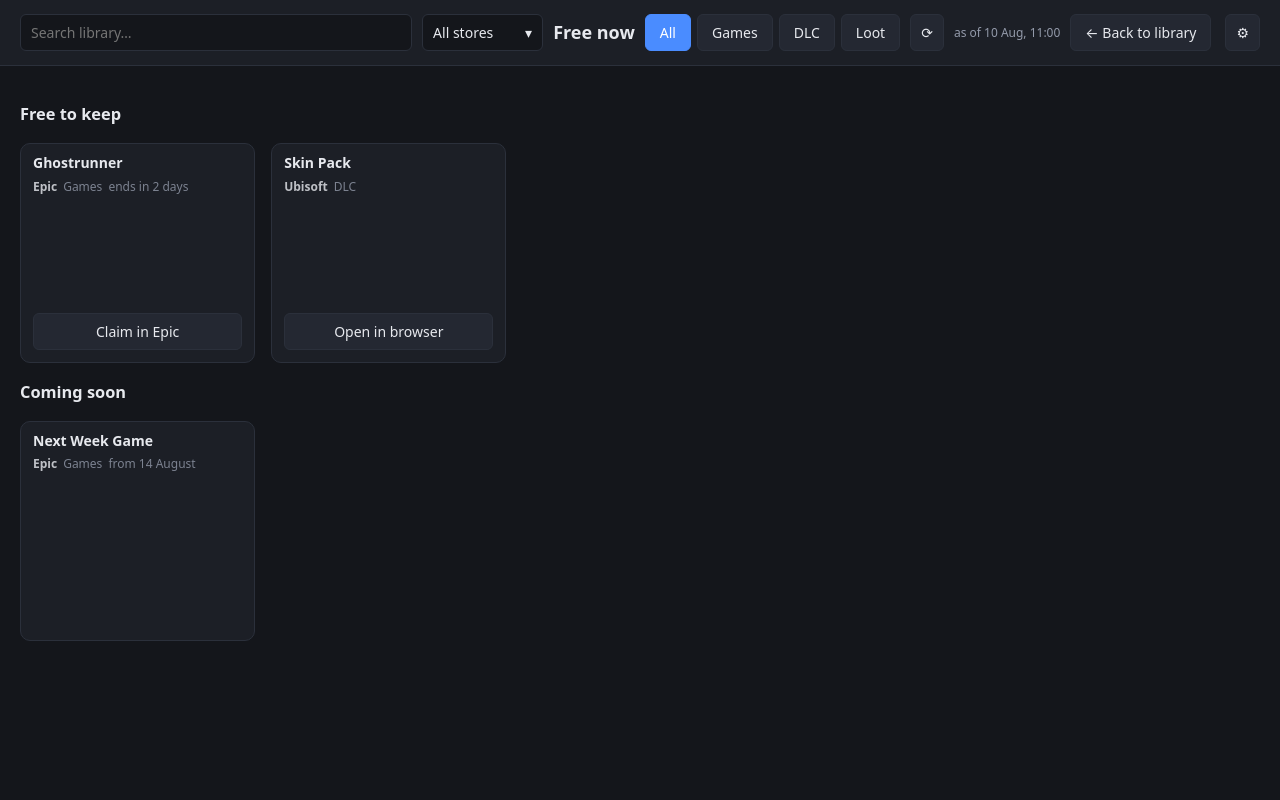
Test: FreeGames › narrows to games when the Games chip is chosen
expect the heading "Skin Pack" is shown: met, box [284,153,351,172]
Step 1. Click the button "Games" → (735, 32), box [697,14,773,51]
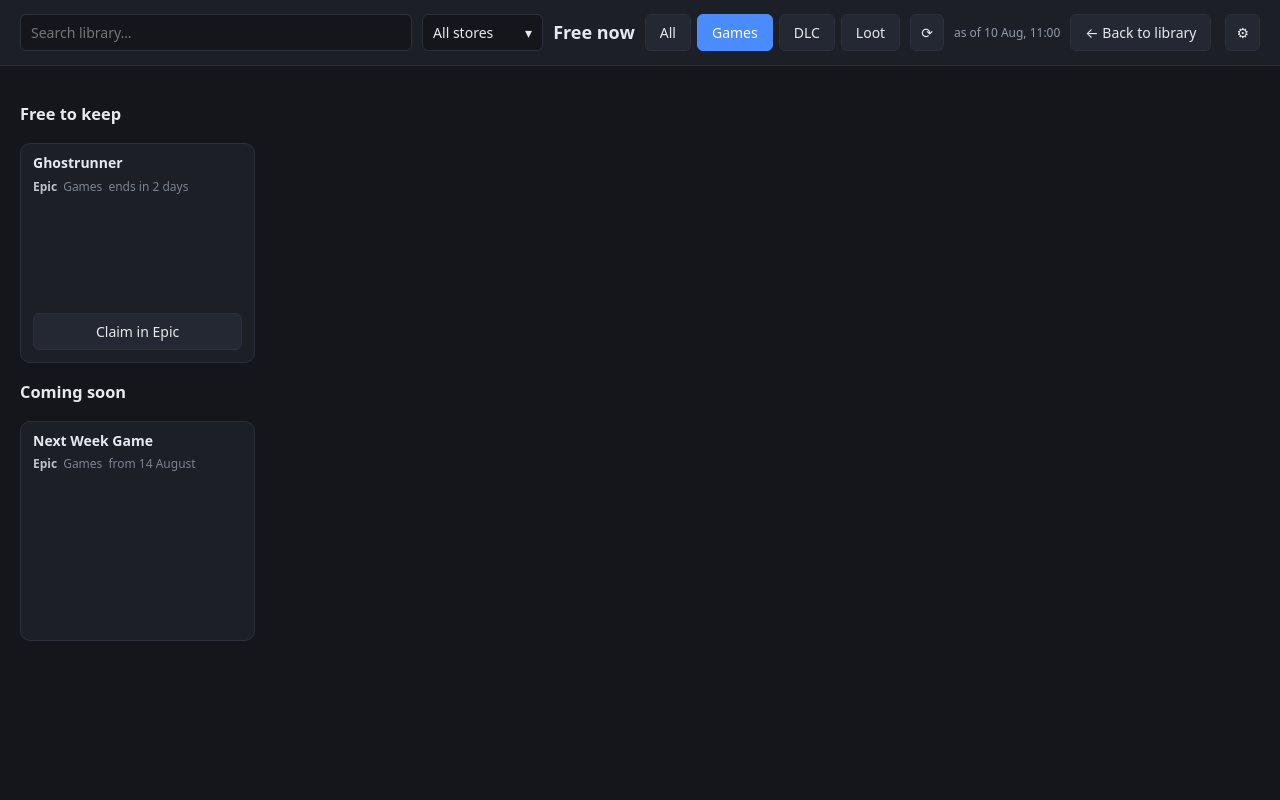
expect the heading "Ghostrunner" is shown: met, box [33,153,123,172]
expect the heading "Skin Pack" is gone: met
